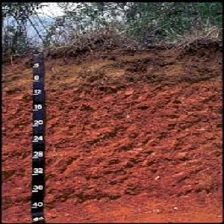clay_soil: (10, 36, 203, 200)
